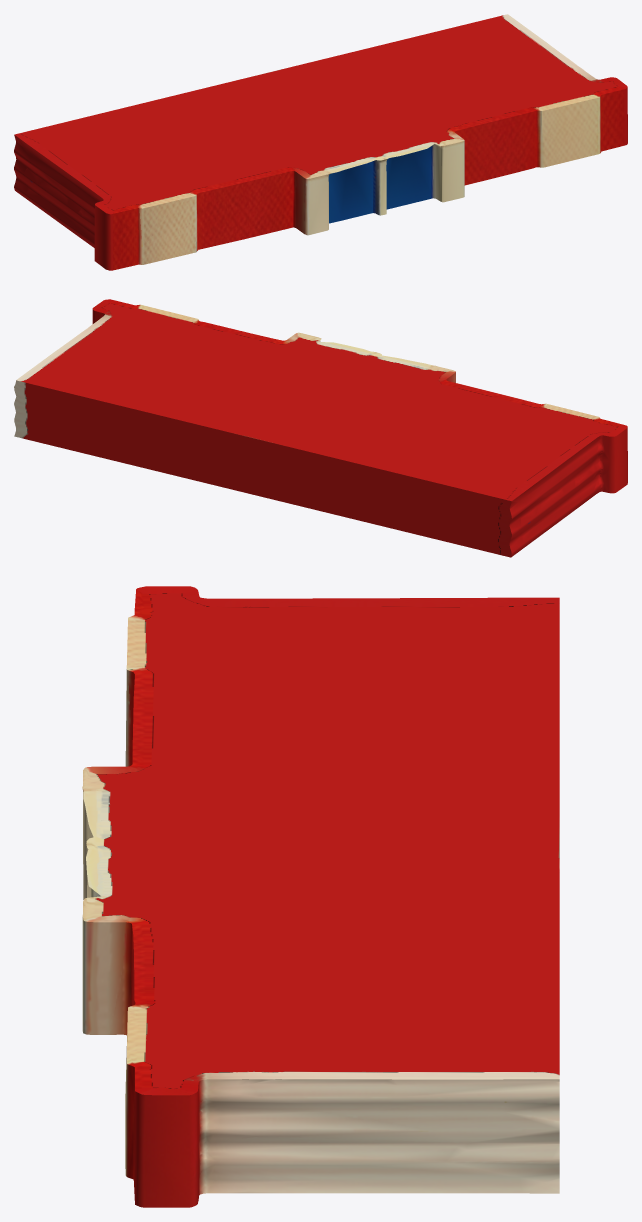
Rendered from 10-roof-front-right.fbx.
3 renders of one model, top to bottom at view 1: azimuth 30°, elevation 25°; view 2: azimuth 150°, elevation 25°; view 3: azimuth 270°, elevation 25°, orthographic. The views are drawn at different scales.
Parts seen in each view (by area): view 1: roof-front-right; view 2: roof-front-right; view 3: roof-front-right.
Boxes of the visible parts, x1=… form: roof-front-right: x1=14, y1=14, x2=627, y2=270; roof-front-right: x1=14, y1=299, x2=627, y2=557; roof-front-right: x1=82, y1=586, x2=559, y2=1207.
Bounding box in the file's own units: 3802 × 392 × 1506.
Materials: 1 (1 with a texture image).
